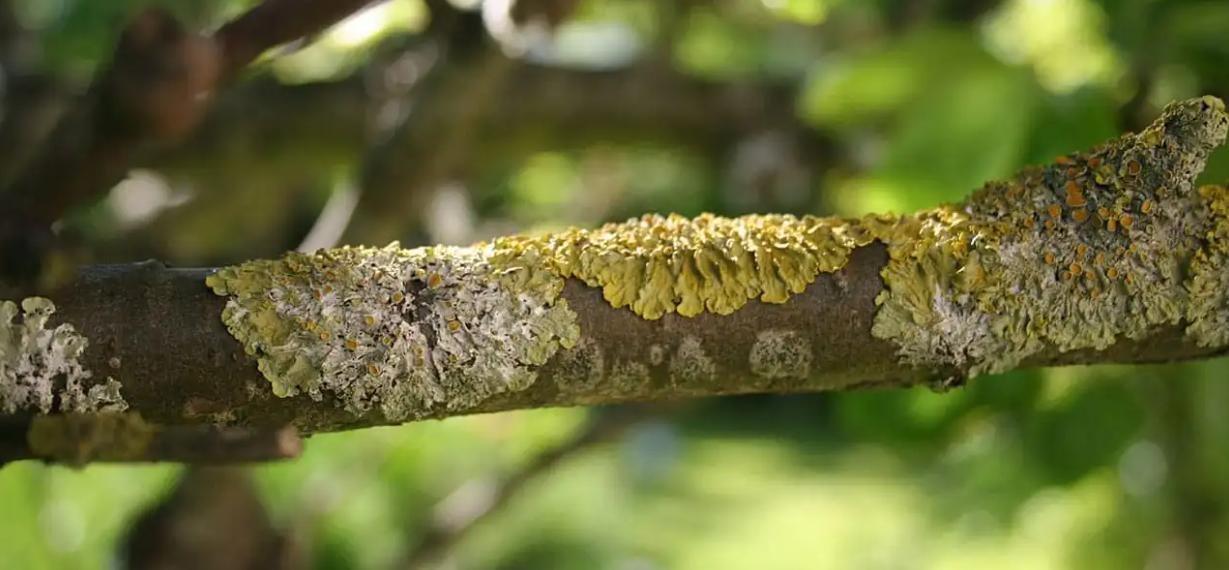lichen: (206, 214, 872, 419), (863, 98, 1228, 372), (0, 297, 127, 412)
